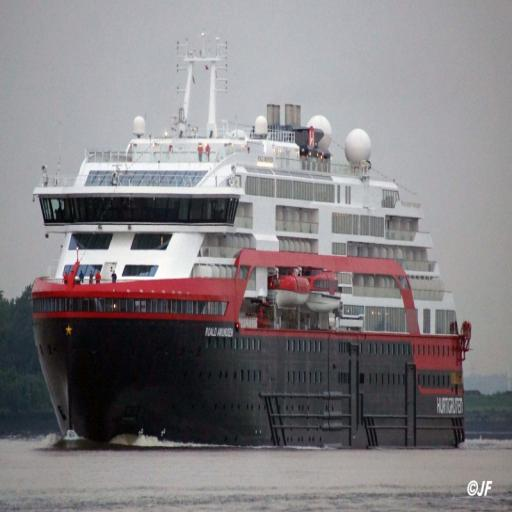cruises: (27, 44, 474, 456)
